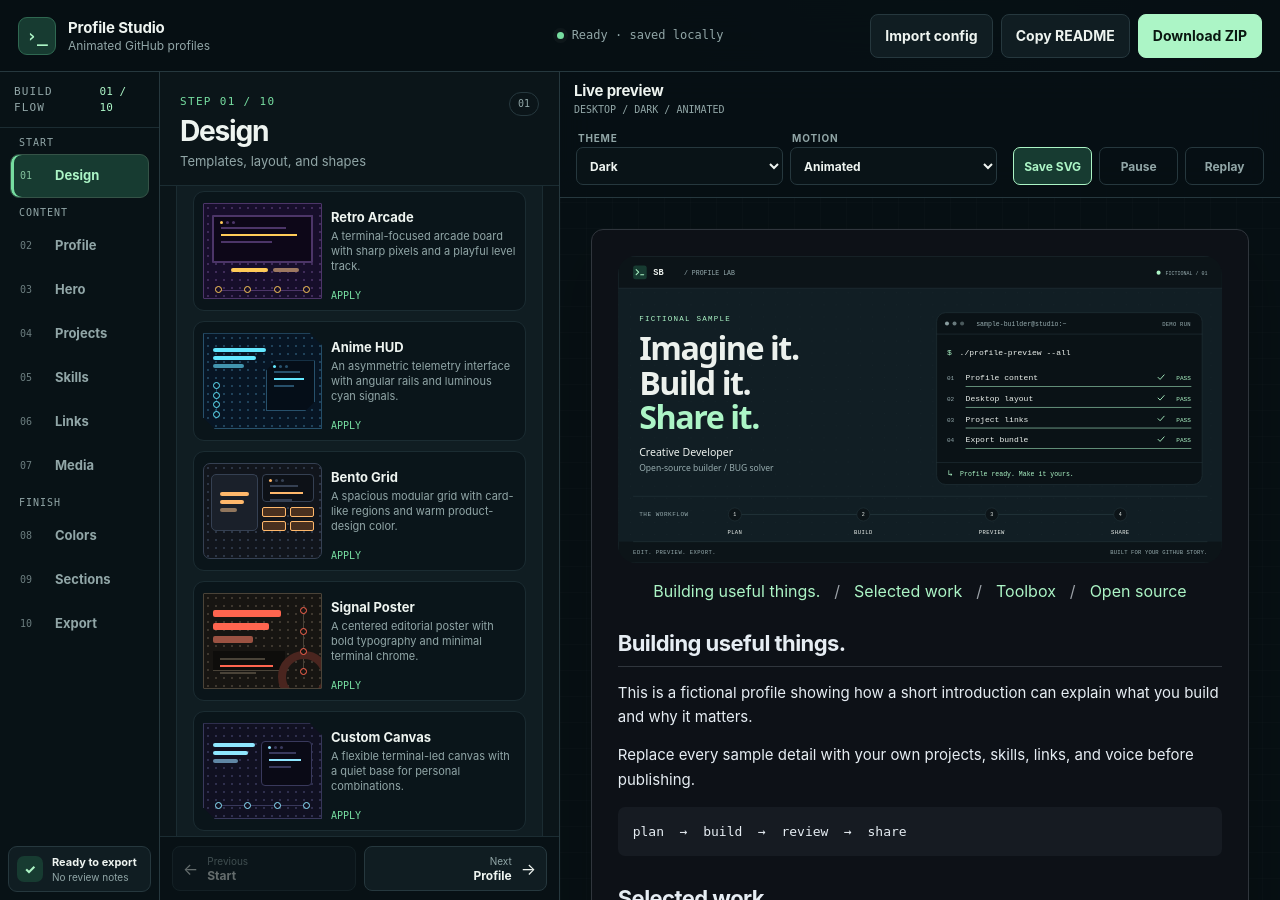
Scenario: Profile Studio workspace › applies seven content-safe presets, customizes layout, and grows a six-step workflow
(page scrolled)
Check: the element with class "generated-hero" shows "FICTIONAL SAMPLE", box [639, 315, 731, 323]
Click the button that starts with "Bento Grid": [360, 511] box [193, 451, 526, 571]
(page scrolled)
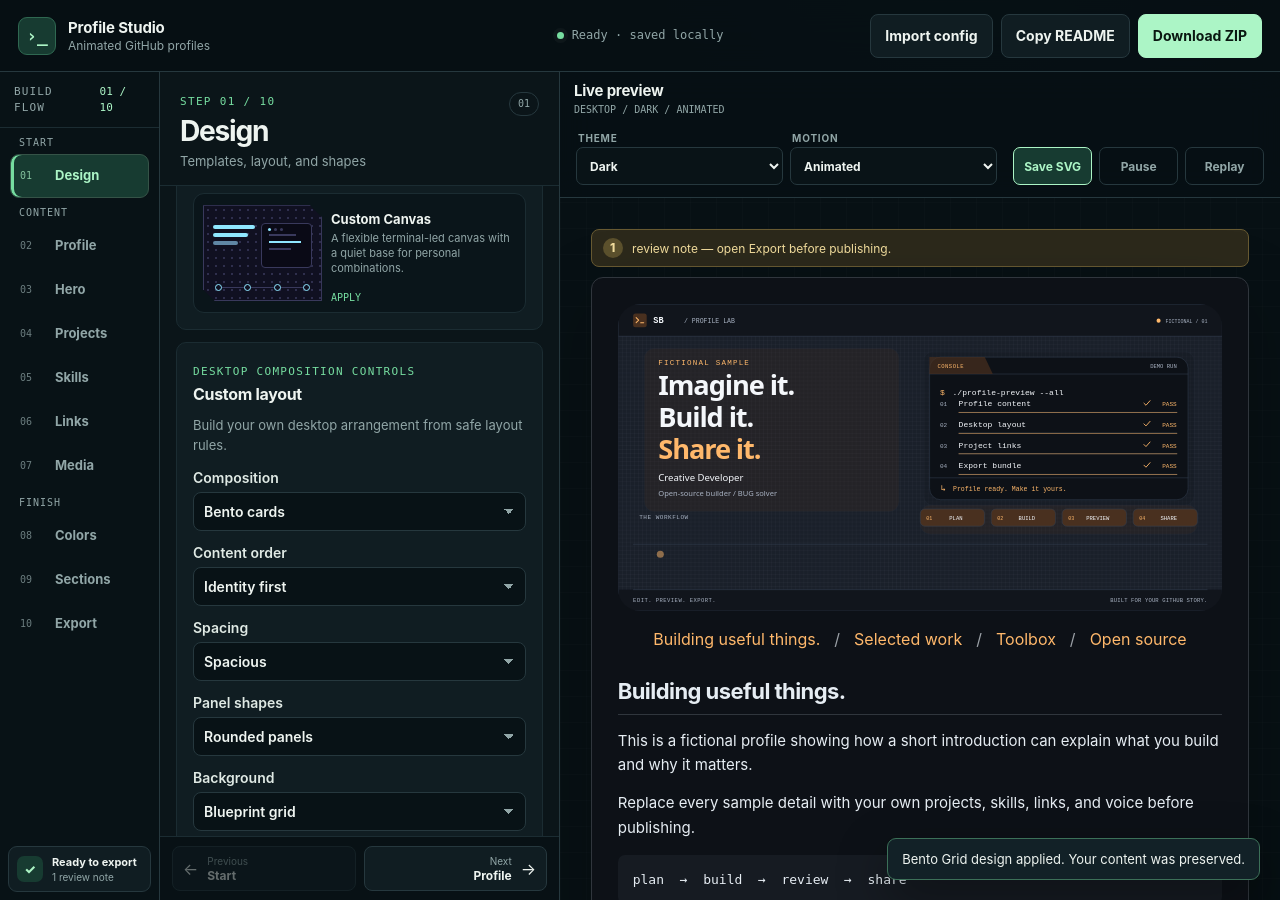
Check: the element with class "generated-hero" shows "FICTIONAL SAMPLE", box [658, 359, 750, 367]
Check: the picture named "Sample Builder | PROFILE LAB" has attribute data-composition="bento", box [618, 304, 1222, 611]
Select "Signal poster" in the dropdown labelled "Composition": [360, 511] box [193, 492, 526, 531]
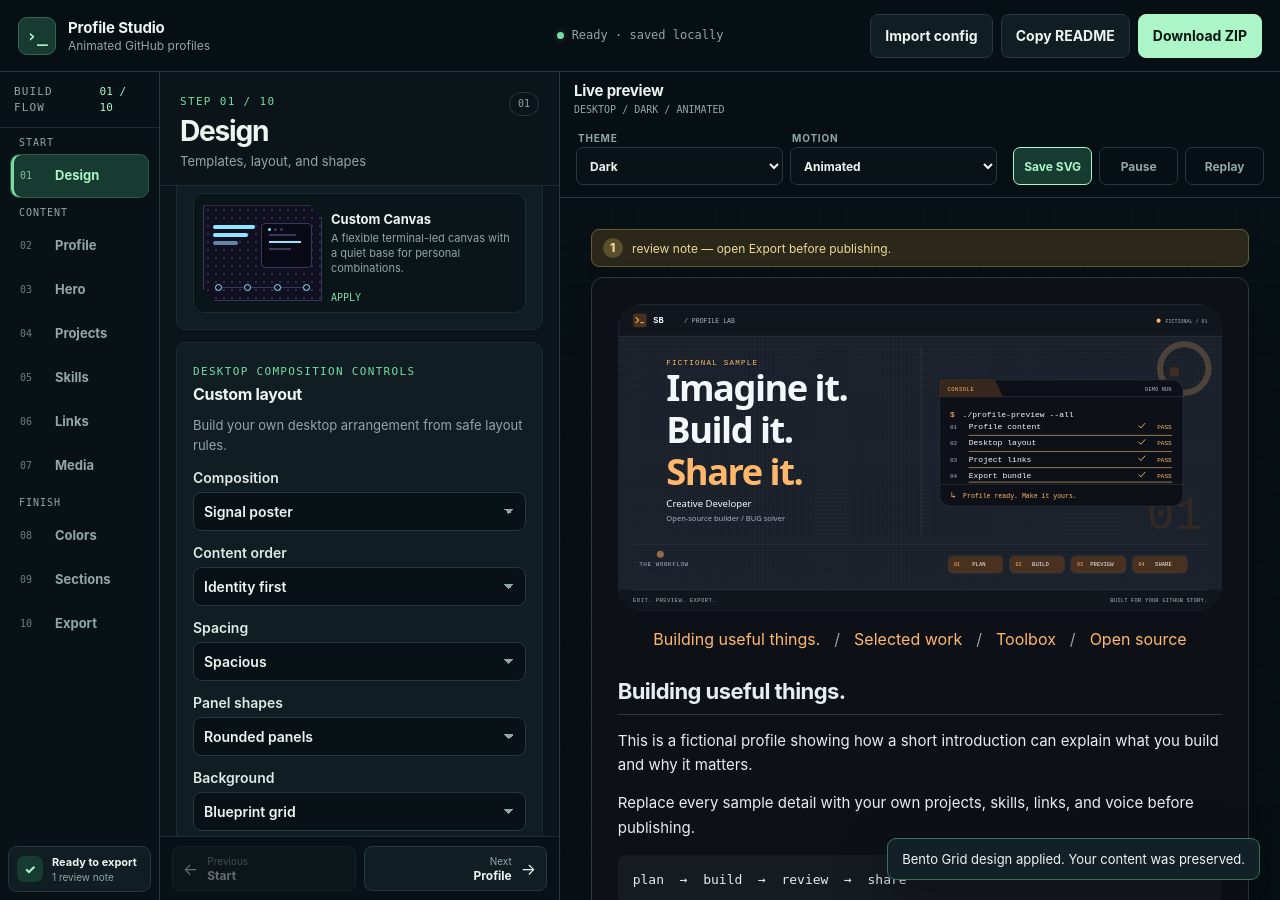
Check: the picture named "Sample Builder | PROFILE LAB" has attribute data-composition="poster", box [618, 304, 1222, 611]
Click the button with id "step-hero": [80, 290] box [10, 268, 149, 312]
(page scrolled)
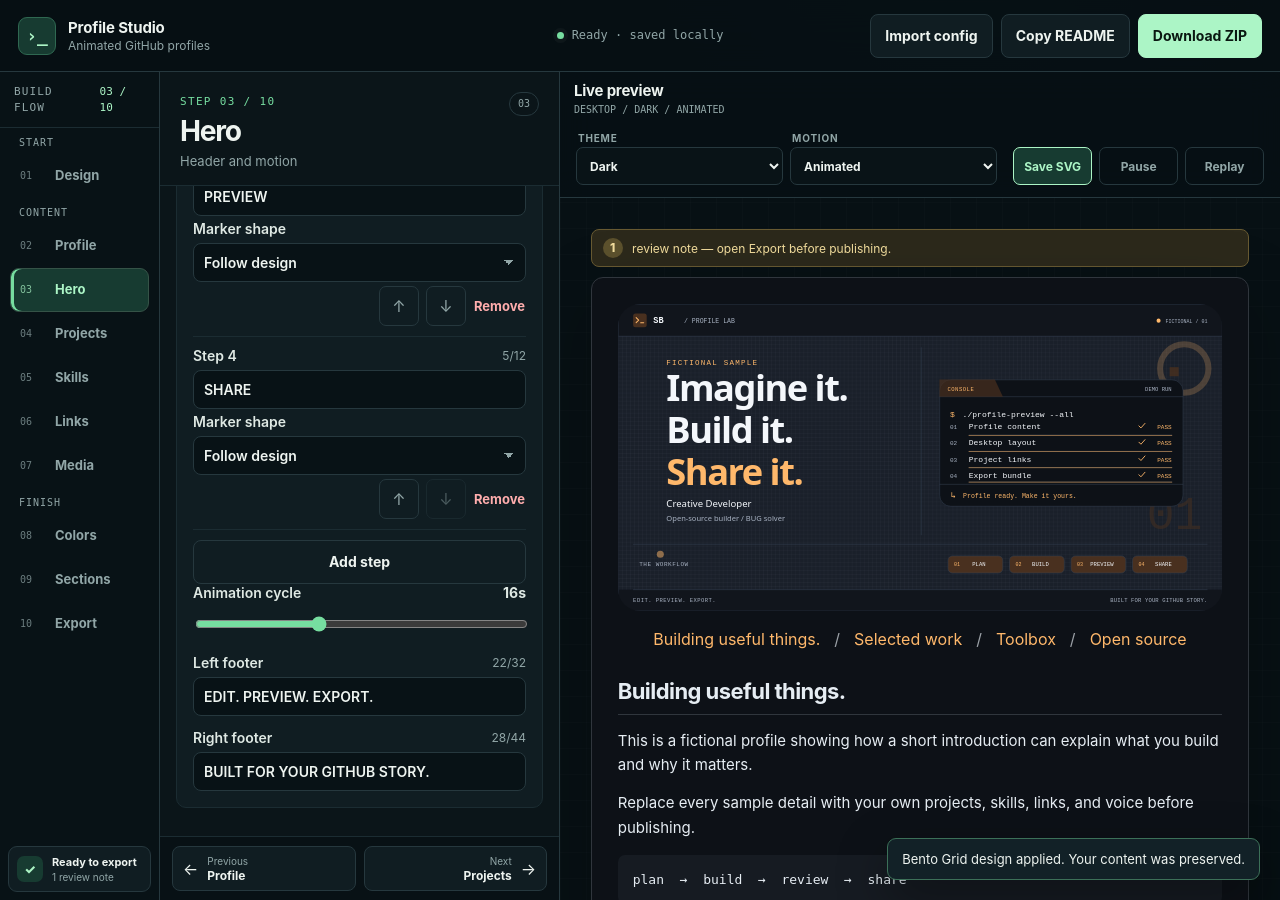
Click the button "Add step": [360, 562] box [193, 540, 526, 584]
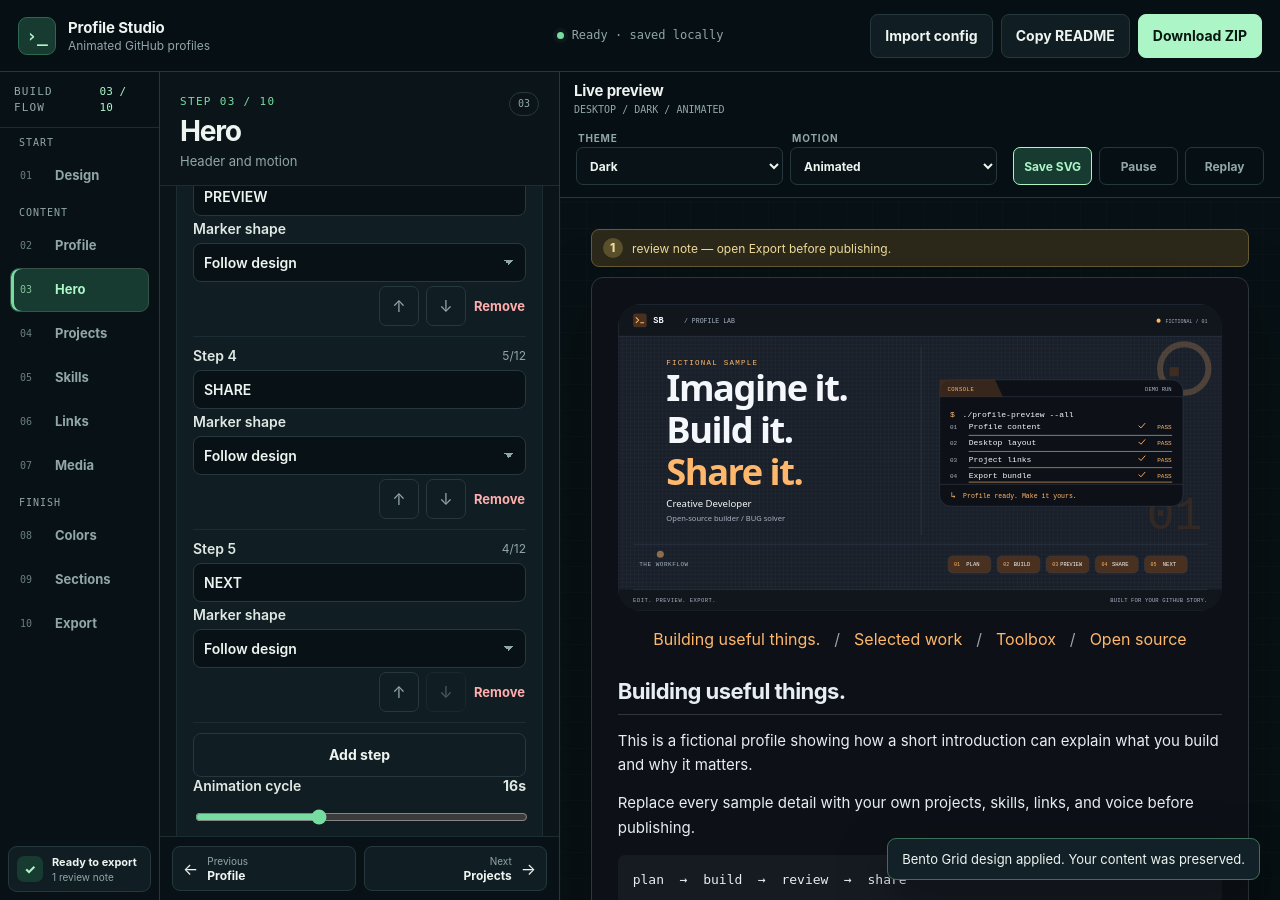
Click the button "Add step": [360, 755] box [193, 733, 526, 777]
(page scrolled)
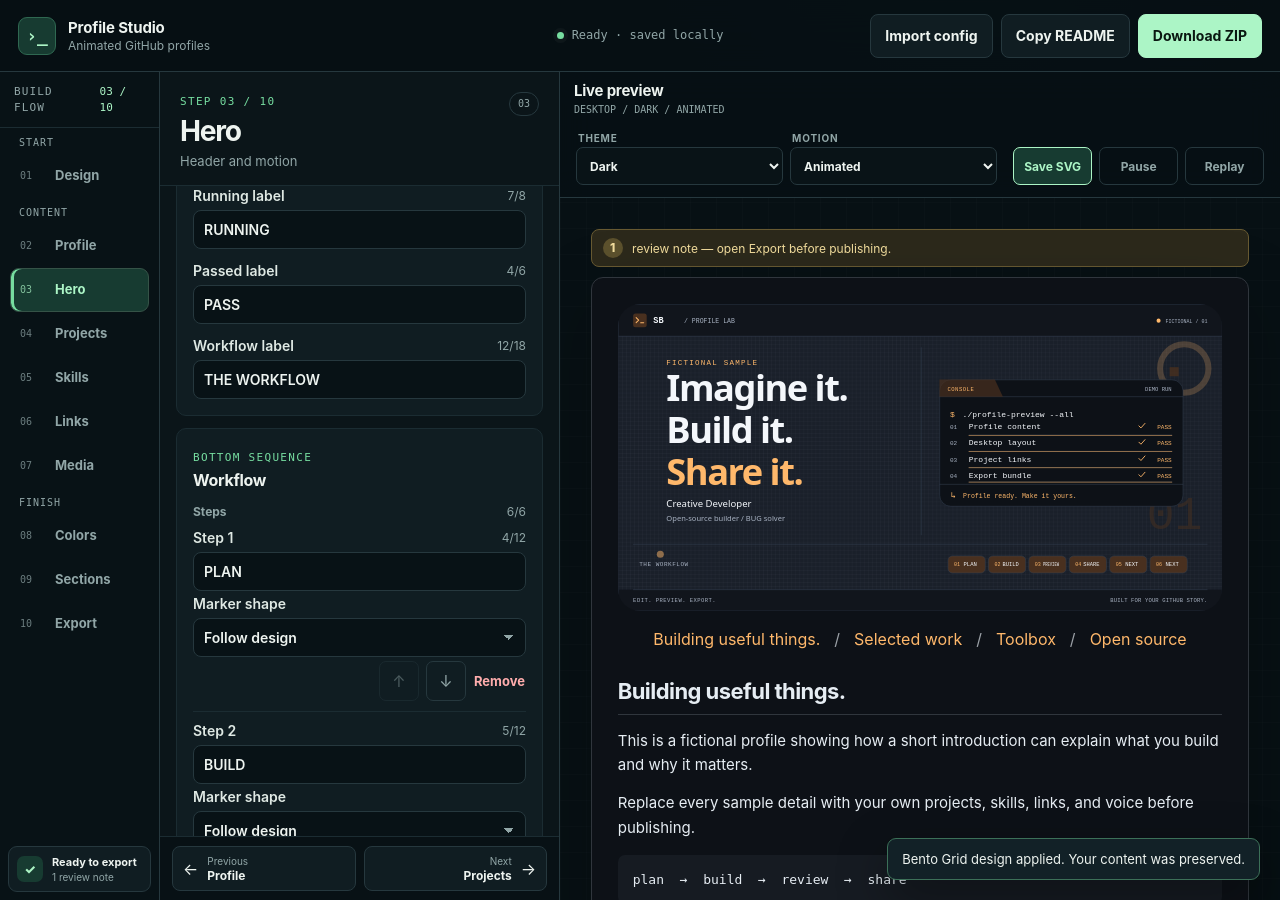
Check: the text "6/6" is shown, box [507, 504, 526, 519]
